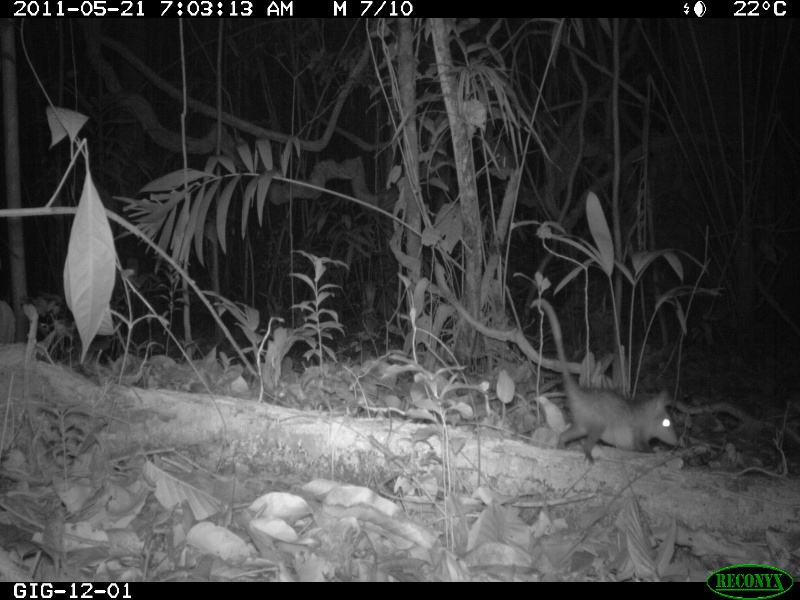opossum: (531, 298, 685, 463)
